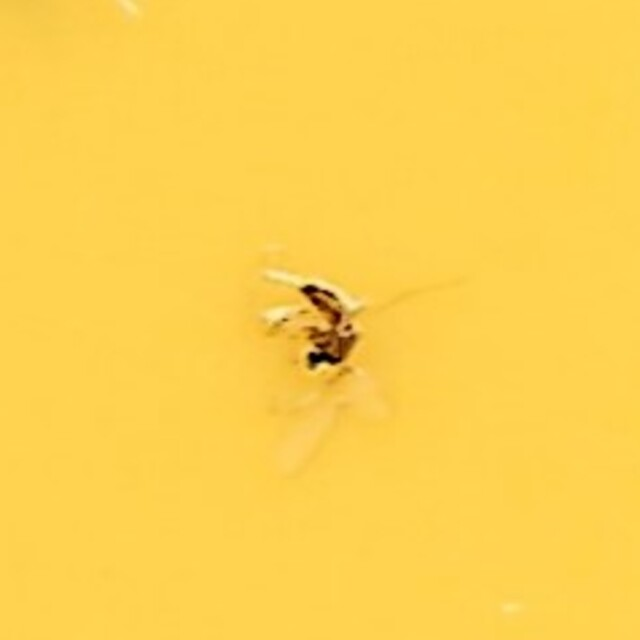Nematocera: (269, 259, 371, 381)
